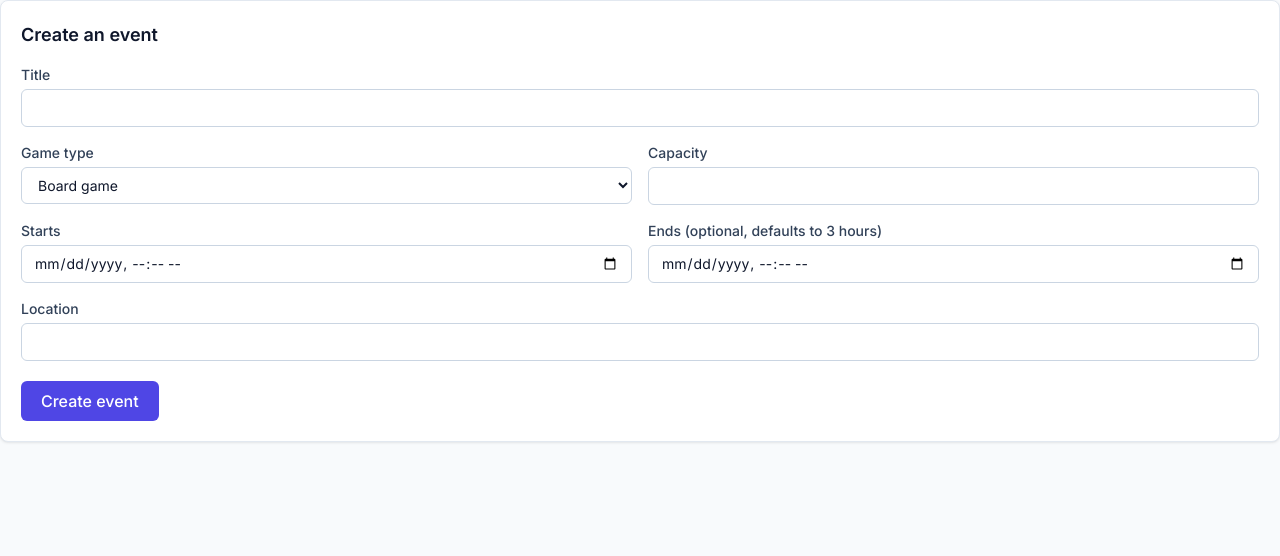
it: CreateEventForm › blocks submission client-side and renders per-field errors
This screenshot has width=1280, height=556.
In the number field labelled "Capacity": (954, 186) [648,167,1259,205], type "0"
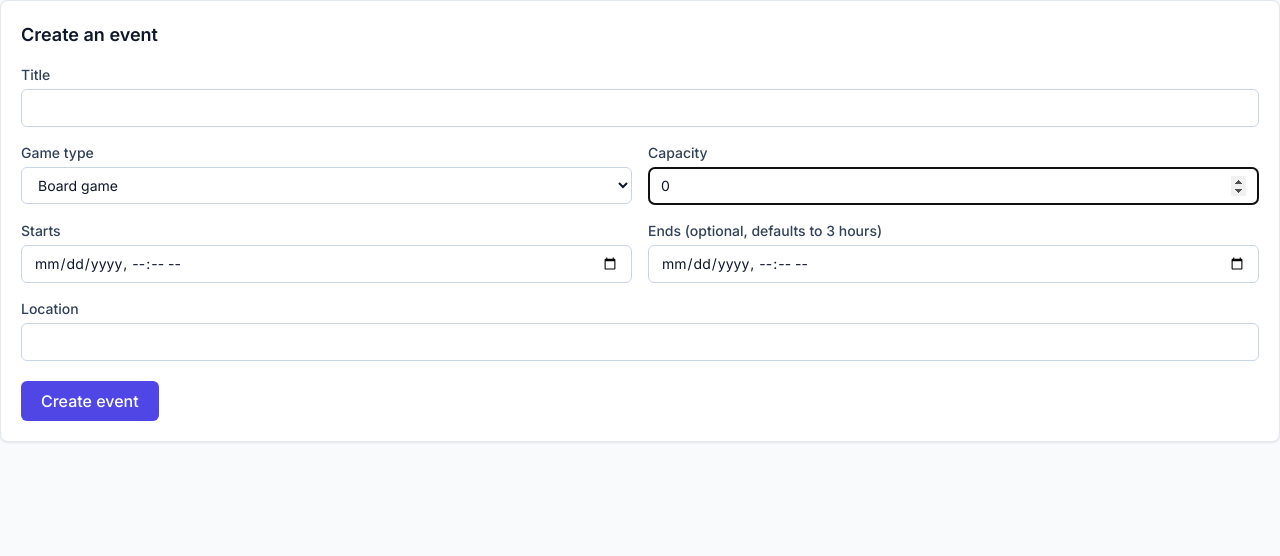
In the field labelled "Starts": (326, 264) [21,245,632,283], type "2020-01-01T19:00"
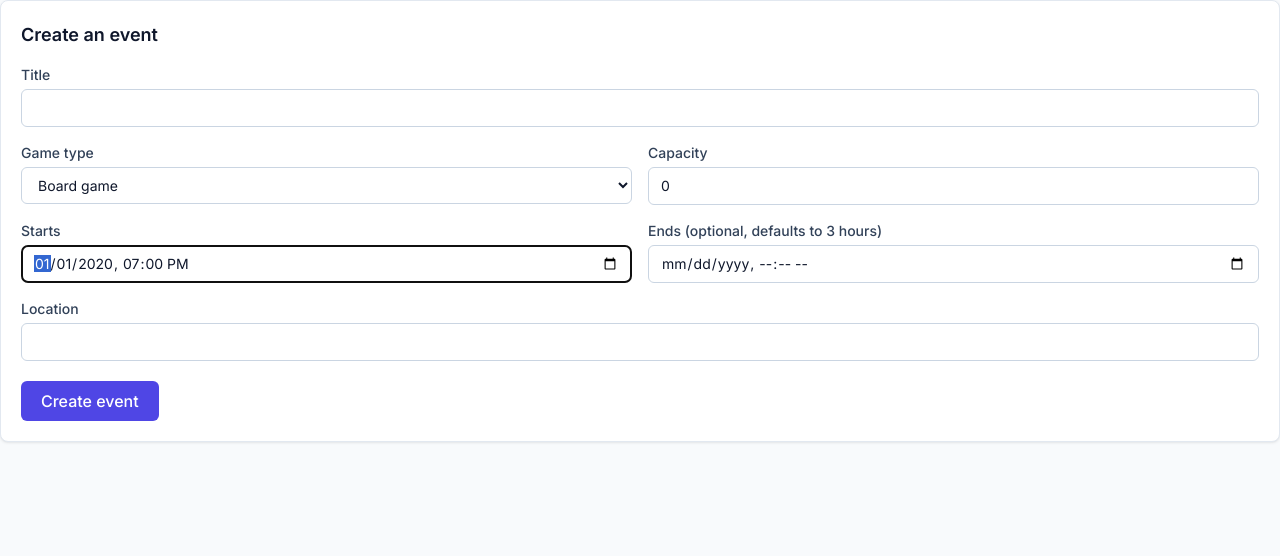
Click the button "Create event": click(90, 401) [21,381,159,421]
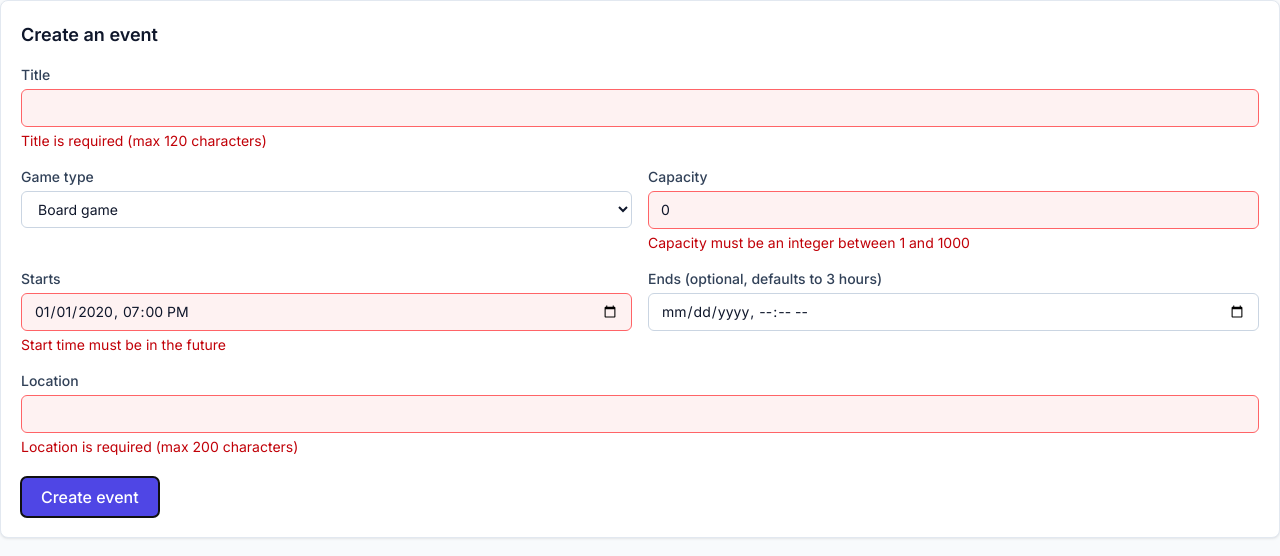
Expected: the text with test id "error-title" reads "Title is required (max 120 characters)", [21,132,267,149]
Expected: the text with test id "error-starts_at" reads "Start time must be in the future", [21,336,226,353]
Expected: the text with test id "error-capacity" reads "Capacity must be an integer between 1 and 1000", [648,234,970,251]
